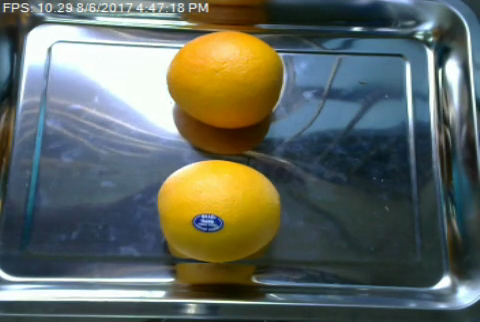Orange: (156, 158, 279, 263), (165, 29, 282, 128)
